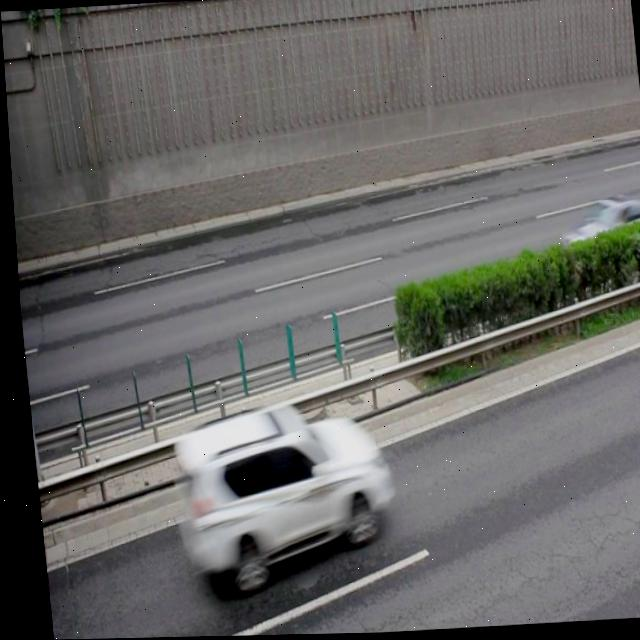car: (160, 397, 390, 588), (556, 193, 640, 279)
